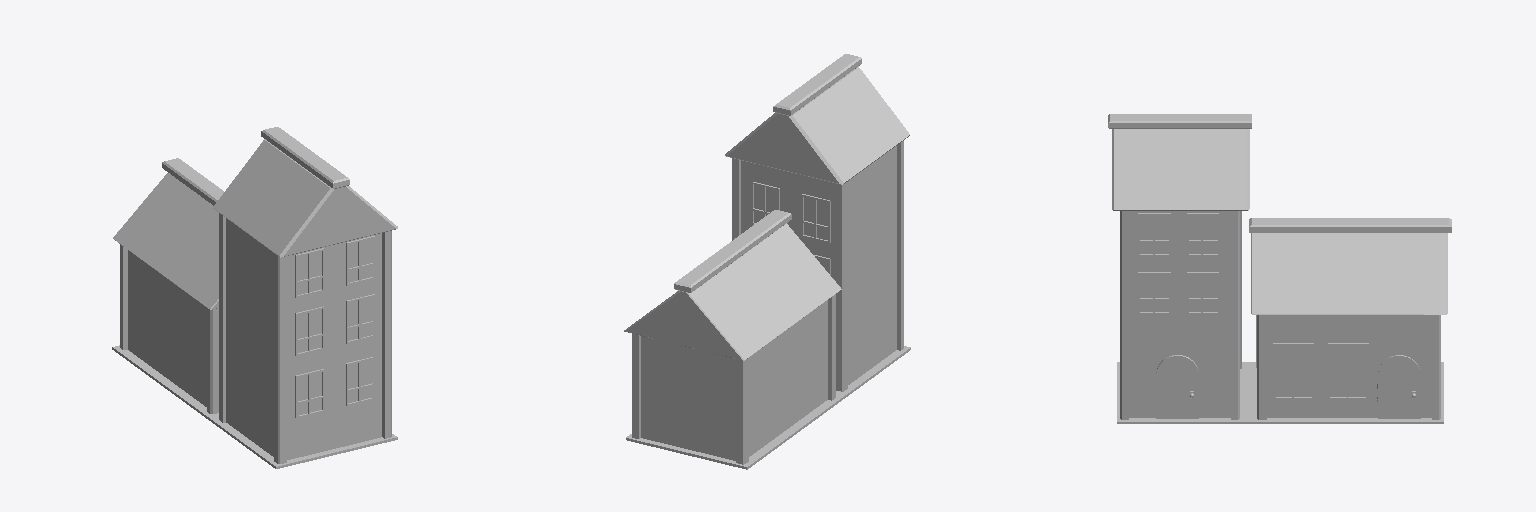
Rendered from basicbuilding.obj.
3 views of the same model, side by side, from view 1: azimuth 30°, elevation 25°; view 2: azimuth 150°, elevation 25°; view 3: azimuth 270°, elevation 25° (orthographic).
Parts seen in each view (by area): view 1: group18; view 2: group18; view 3: group18.
Boxes of the visible parts, x1=… form: group18: x1=112, y1=127, x2=397, y2=468; group18: x1=624, y1=54, x2=910, y2=469; group18: x1=1108, y1=114, x2=1451, y2=423.
Size of the model in its own units: 152 by 327 by 367.